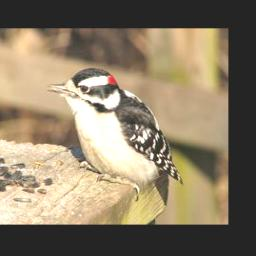Woodpecker: (44, 68, 185, 202)
